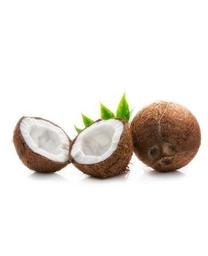coconut: (129, 103, 202, 171), (70, 117, 133, 180), (12, 116, 73, 175)
